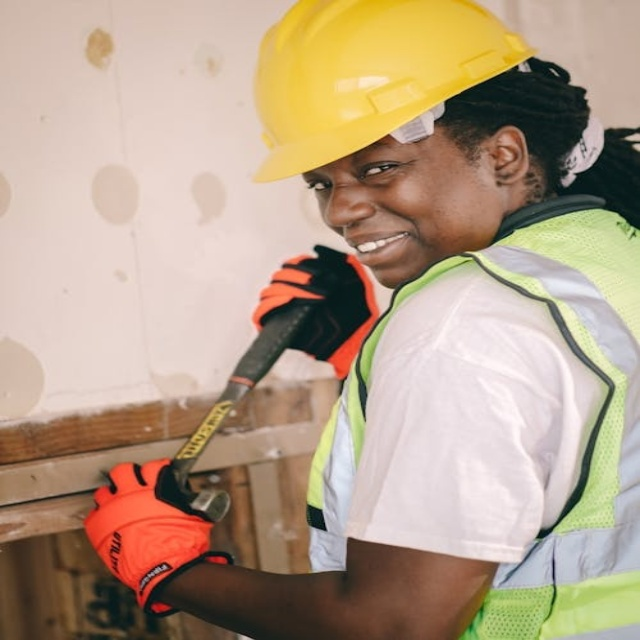Guantes: (80, 459, 235, 618), (252, 246, 379, 380)
Sin_gafas: (310, 147, 422, 204)
Sin_mascara: (344, 227, 431, 277)
